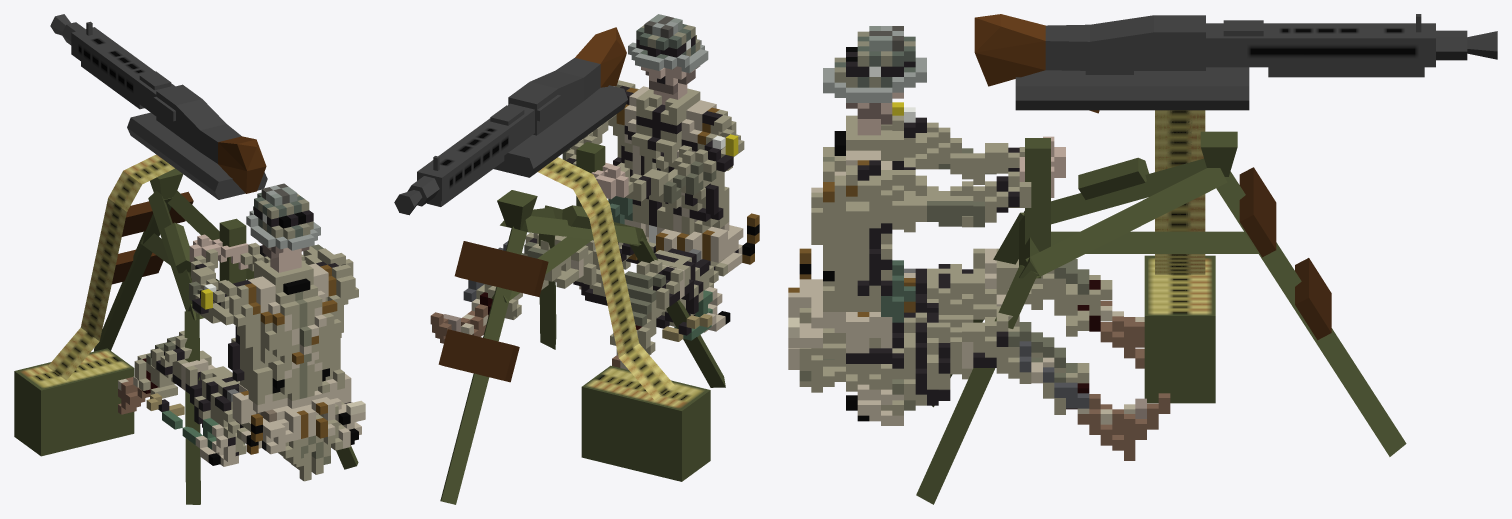
The model's file is mg42_hmg.glb.
3 renders of one model, left to right at view 1: azimuth 30°, elevation 25°; view 2: azimuth 150°, elevation 25°; view 3: azimuth 270°, elevation 25°, orthographic. The views are drawn at different scales.
Parts seen in each view (by area): view 1: crew_soldier_SLOT_00_GUNNER, 00_chassis_lafette_tripod.mesh, weapon_turret_0_mg42_hmg.mesh; view 2: crew_soldier_SLOT_00_GUNNER, 00_chassis_lafette_tripod.mesh, weapon_turret_0_mg42_hmg.mesh; view 3: crew_soldier_SLOT_00_GUNNER, 00_chassis_lafette_tripod.mesh, weapon_turret_0_mg42_hmg.mesh.
Part boxes in pixels (box(x1,y1,x2,y2)): crew_soldier_SLOT_00_GUNNER: box(118, 183, 365, 481); 00_chassis_lafette_tripod.mesh: box(14, 154, 358, 504); weapon_turret_0_mg42_hmg.mesh: box(50, 14, 267, 199); crew_soldier_SLOT_00_GUNNER: box(430, 14, 759, 369); 00_chassis_lafette_tripod.mesh: box(438, 142, 725, 504); weapon_turret_0_mg42_hmg.mesh: box(394, 27, 627, 215); crew_soldier_SLOT_00_GUNNER: box(788, 26, 1170, 460); 00_chassis_lafette_tripod.mesh: box(916, 110, 1406, 504); weapon_turret_0_mg42_hmg.mesh: box(974, 14, 1497, 113).
Bounding box in the file's own units: 1.07 × 1.31 × 1.92.
37 materials, 1 textured.
